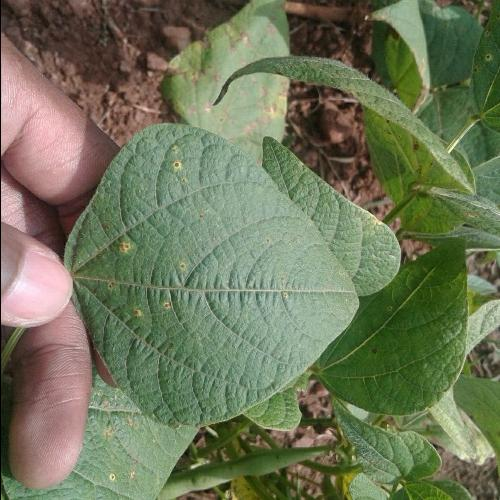hawar: (88, 134, 202, 368)
